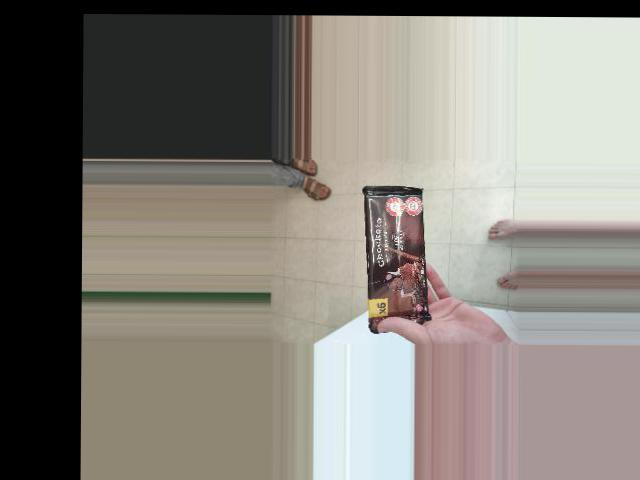chocolate: (291, 177, 450, 261)
